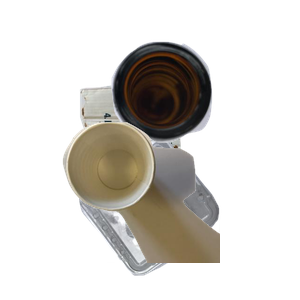cardboard: (77, 79, 251, 227)
glass: (109, 39, 300, 175)
plastic: (77, 133, 289, 300)
trash: (60, 120, 300, 300)
